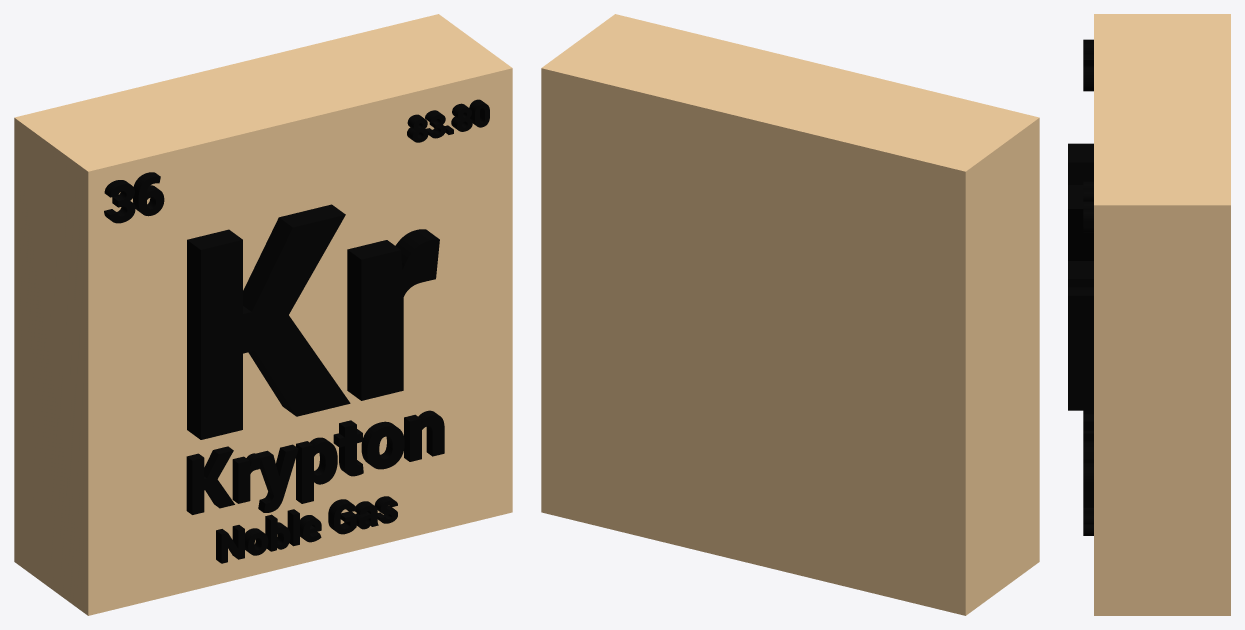
3 renders of one model, left to right at view 1: azimuth 30°, elevation 25°; view 2: azimuth 150°, elevation 25°; view 3: azimuth 270°, elevation 25°, orthographic. The views are drawn at different scales.
Visible parts, largest first — view 1: Cube, Text, Text.001, Text.002, Text.003, Text.004; view 2: Cube; view 3: Cube, Text, Text.001, Text.003, Text.004, Text.002.
Boxes of the visible parts, <box> form: Cube: <box>14,14,512,615</box>; Text: <box>187,204,439,439</box>; Text.001: <box>186,410,444,514</box>; Text.002: <box>216,496,397,563</box>; Text.003: <box>104,172,164,223</box>; Text.004: <box>407,99,489,142</box>; Cube: <box>541,14,1039,615</box>; Cube: <box>1094,14,1230,615</box>; Text: <box>1068,143,1093,410</box>; Text.001: <box>1083,410,1093,507</box>; Text.003: <box>1083,39,1093,91</box>; Text.004: <box>1083,181,1093,232</box>; Text.002: <box>1083,507,1093,535</box>.
Bounding box in the file's own units: 178 × 178 × 63.95.
